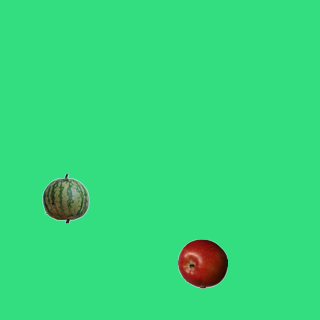Apple Braeburn: (177, 238, 227, 288)
Watermelon: (40, 173, 90, 223)
